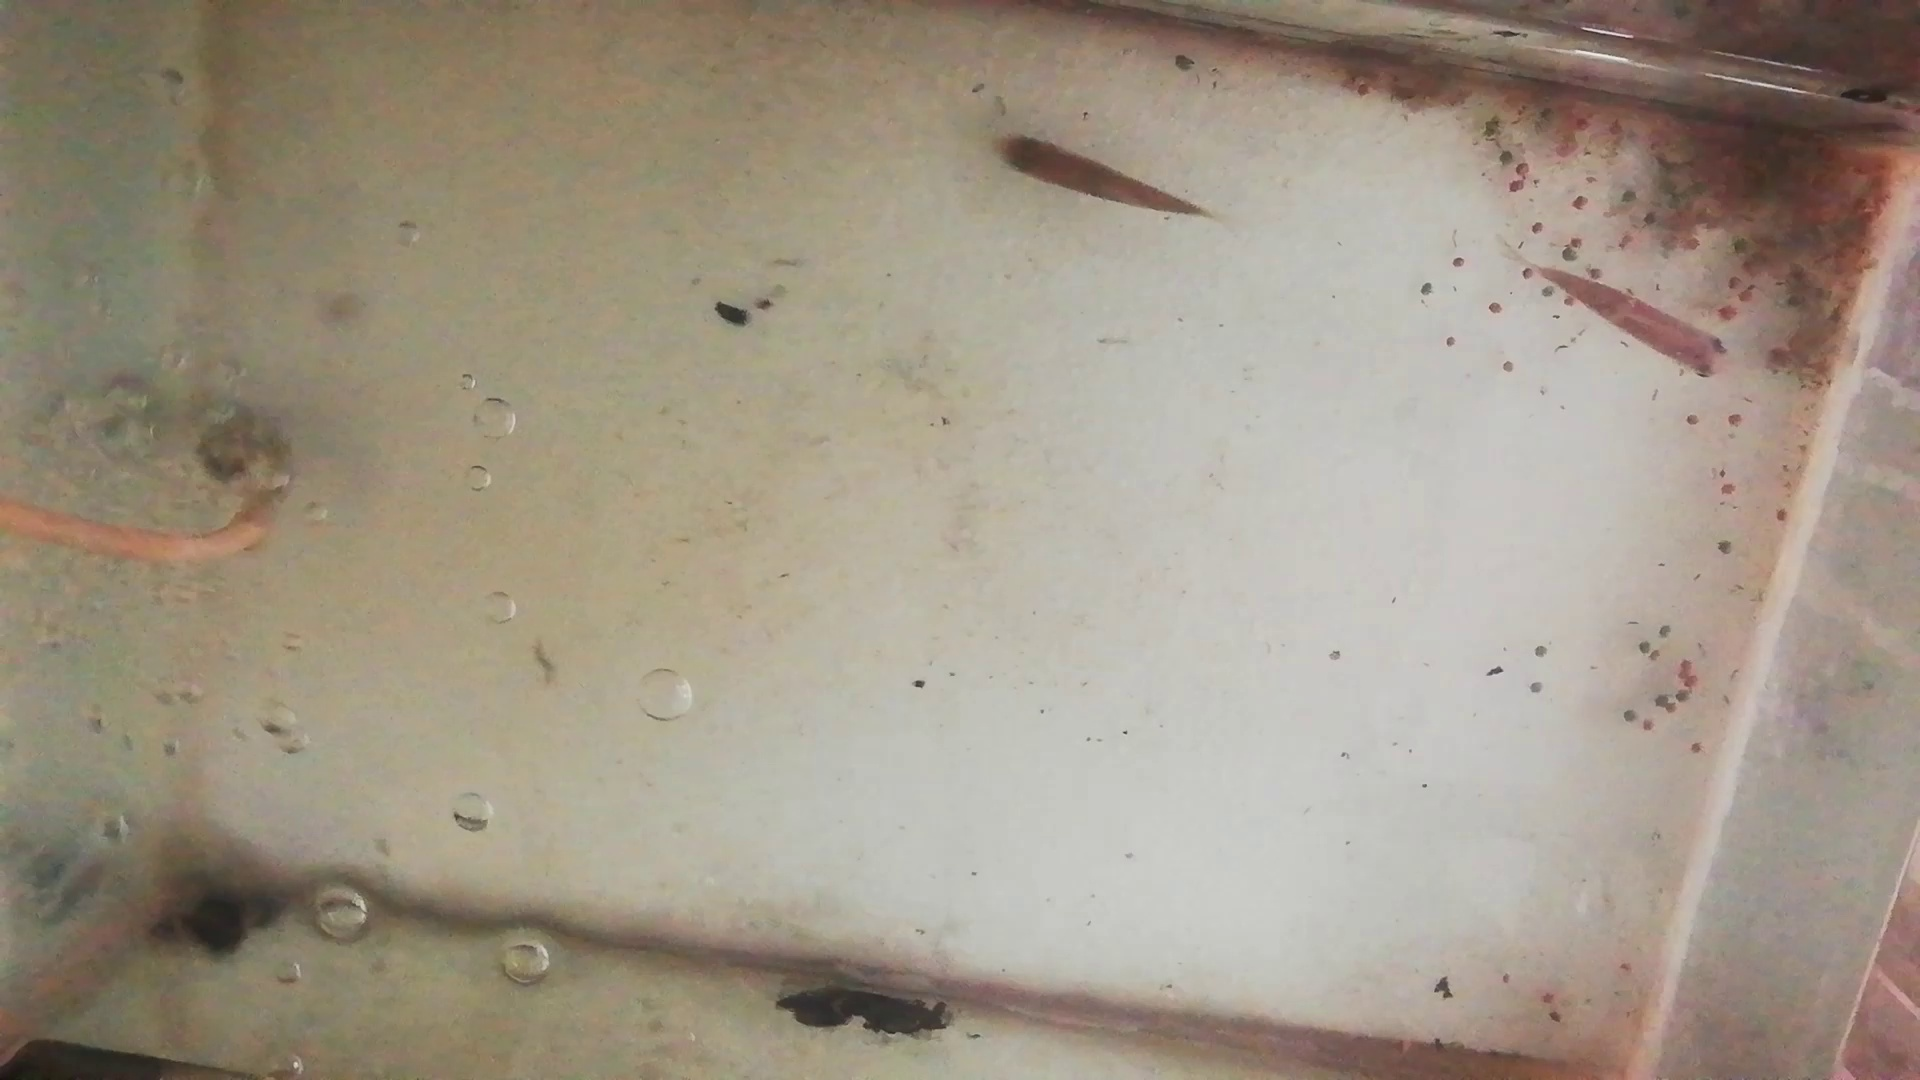fish: (1534, 269, 1733, 380), (989, 131, 1199, 219)
